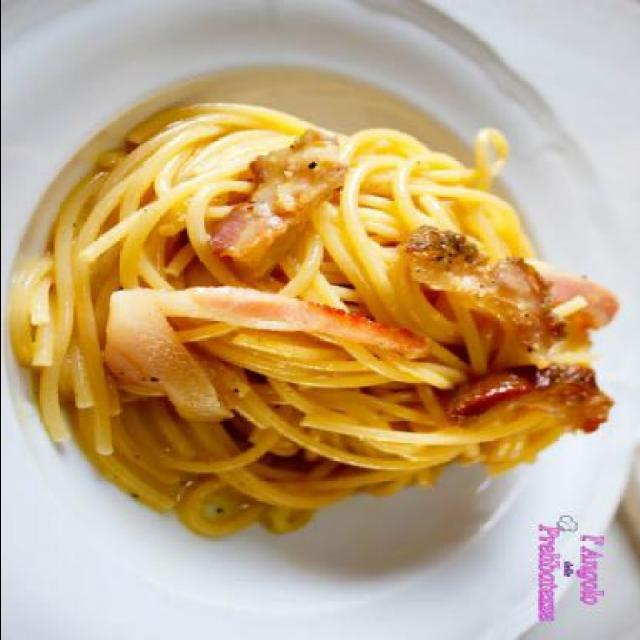Pasta with carbonara sauce: (28, 74, 624, 568)
